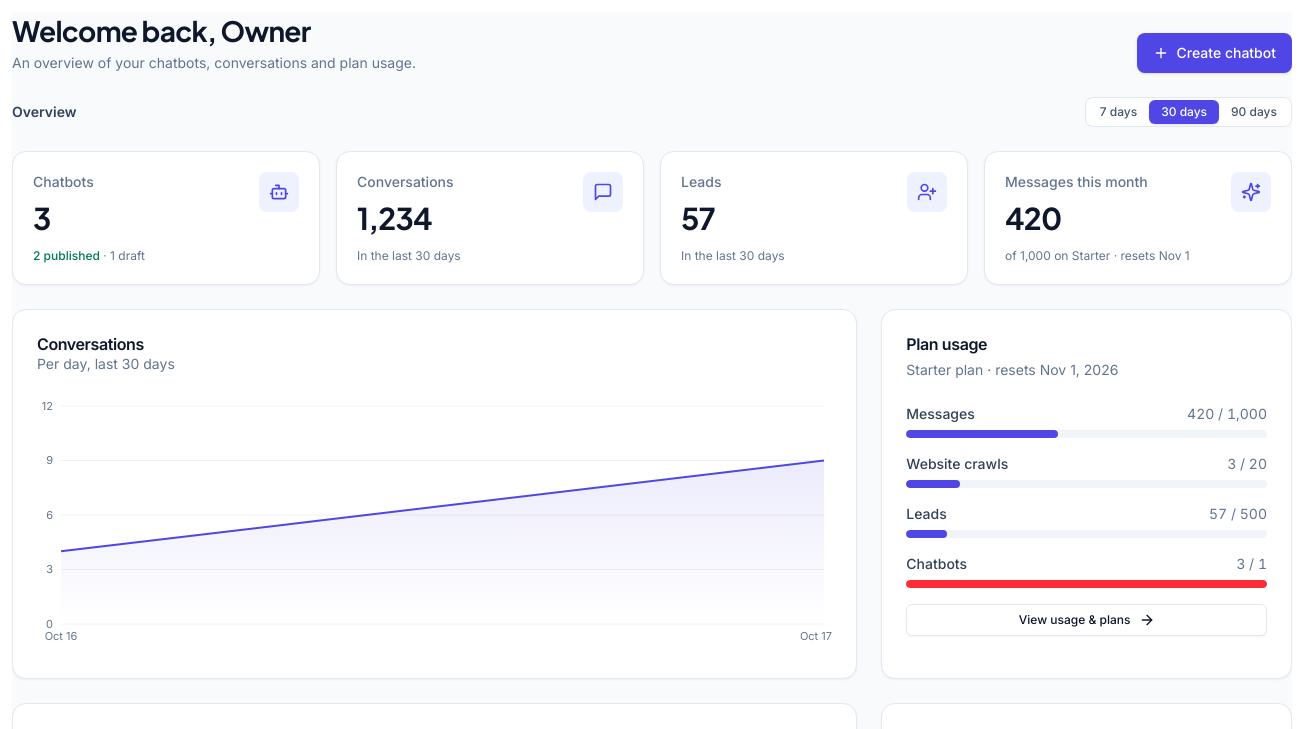
it: DashboardPage › renders stats from the API
Expected: the text with test id "stat-Chatbots" reads "3", [33, 199, 51, 237]
Expected: the text with test id "stat-Conversations" reads "1,234", [357, 199, 432, 237]
Click the button "7 days" at (1118, 112), box [1088, 100, 1149, 124]
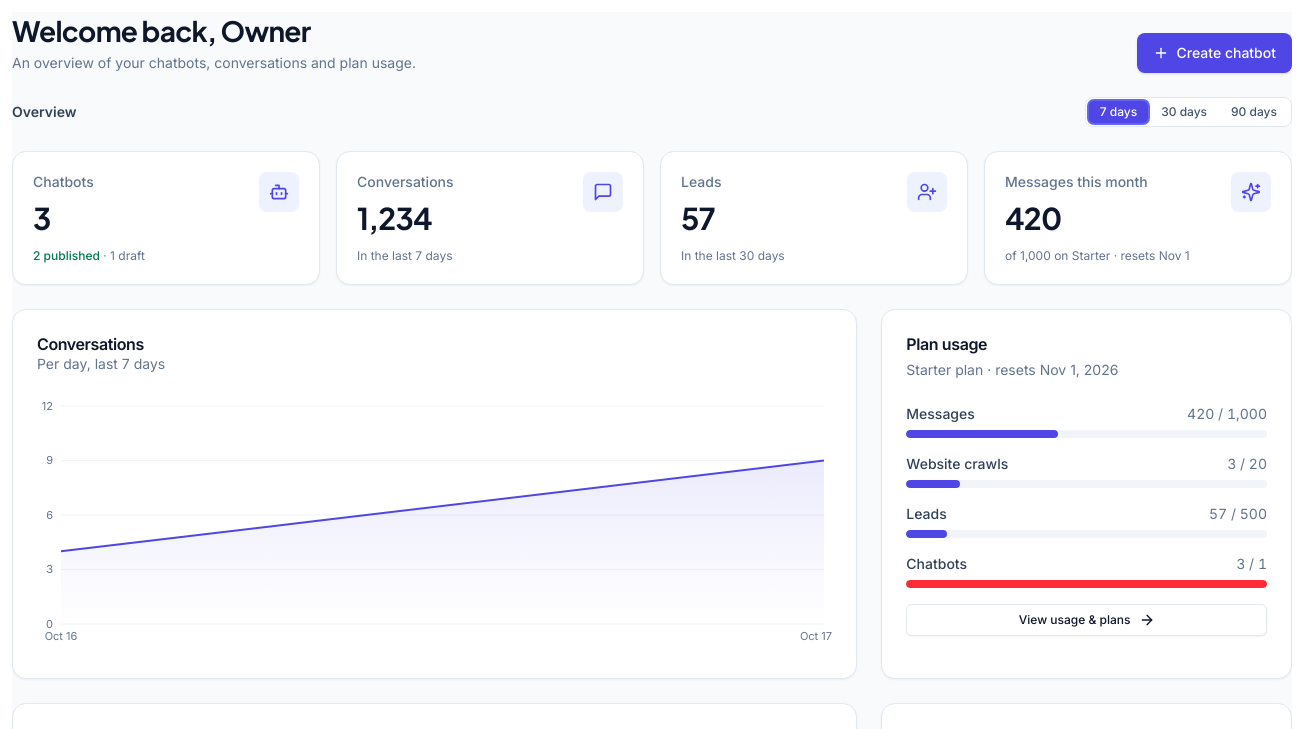
Expected: the text "In the last 7 days" is shown, [357, 248, 452, 263]
